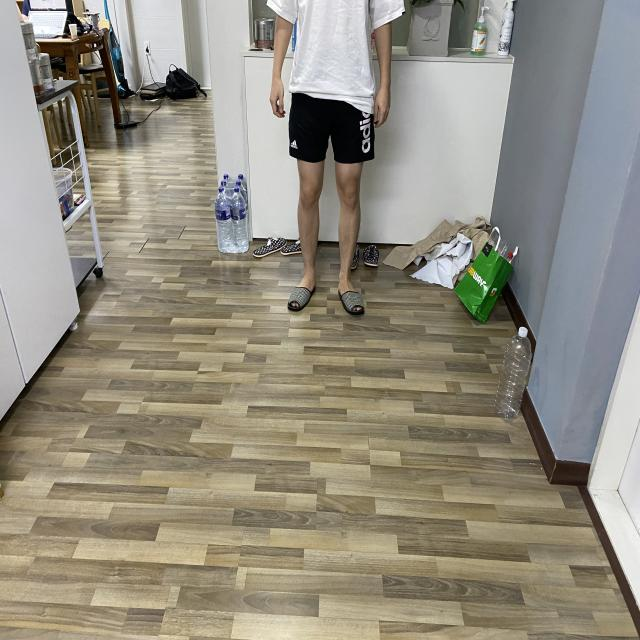no-boots: (280, 268, 323, 322), (329, 278, 370, 329)
